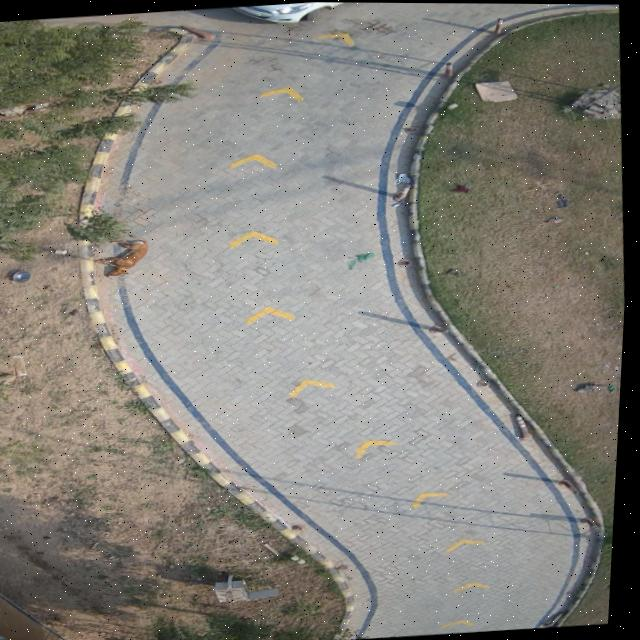car: (228, 2, 344, 23)
